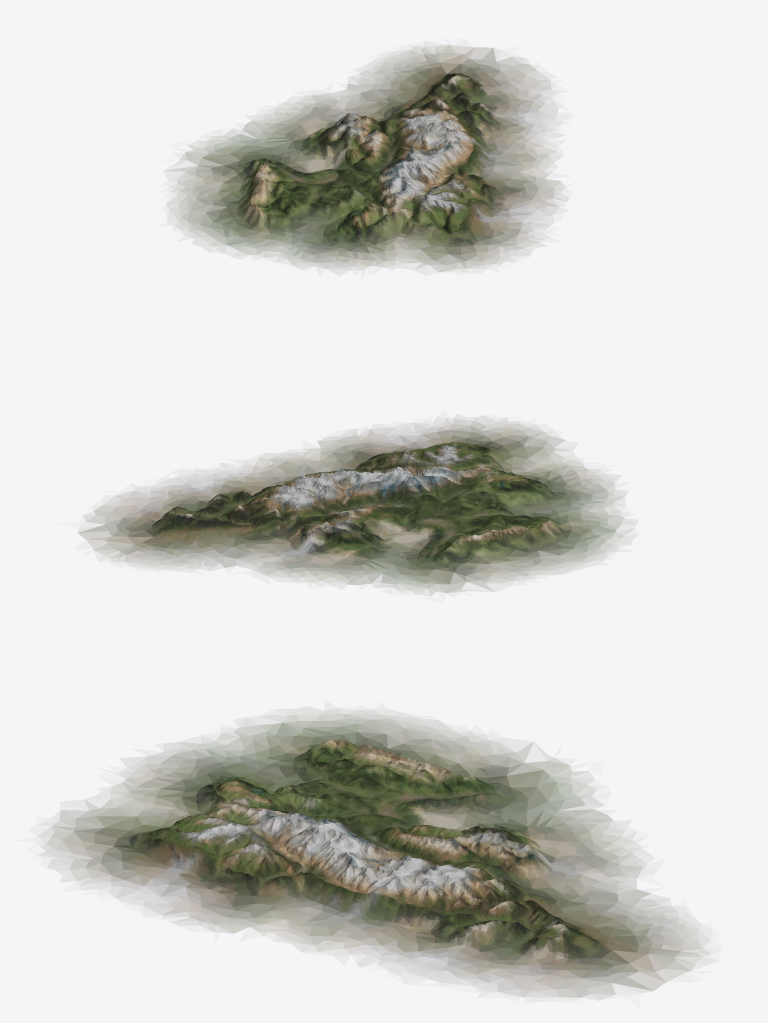
Rendered from map_attribs_9.glb.
The picture shows the model from 3 angles, top to bottom: view 1: azimuth 30°, elevation 25°; view 2: azimuth 150°, elevation 25°; view 3: azimuth 270°, elevation 25°; orthographic projection. The views are drawn at different scales.
Parts seen in each view (by area): view 1: map_tri; view 2: map_tri; view 3: map_tri.
Part boxes in pixels (x1,y1,x2,y2): map_tri: [164, 45, 564, 271]; map_tri: [78, 416, 632, 595]; map_tri: [38, 710, 710, 997].
Bounding box in the file's own units: 235 × 11.97 × 235.
